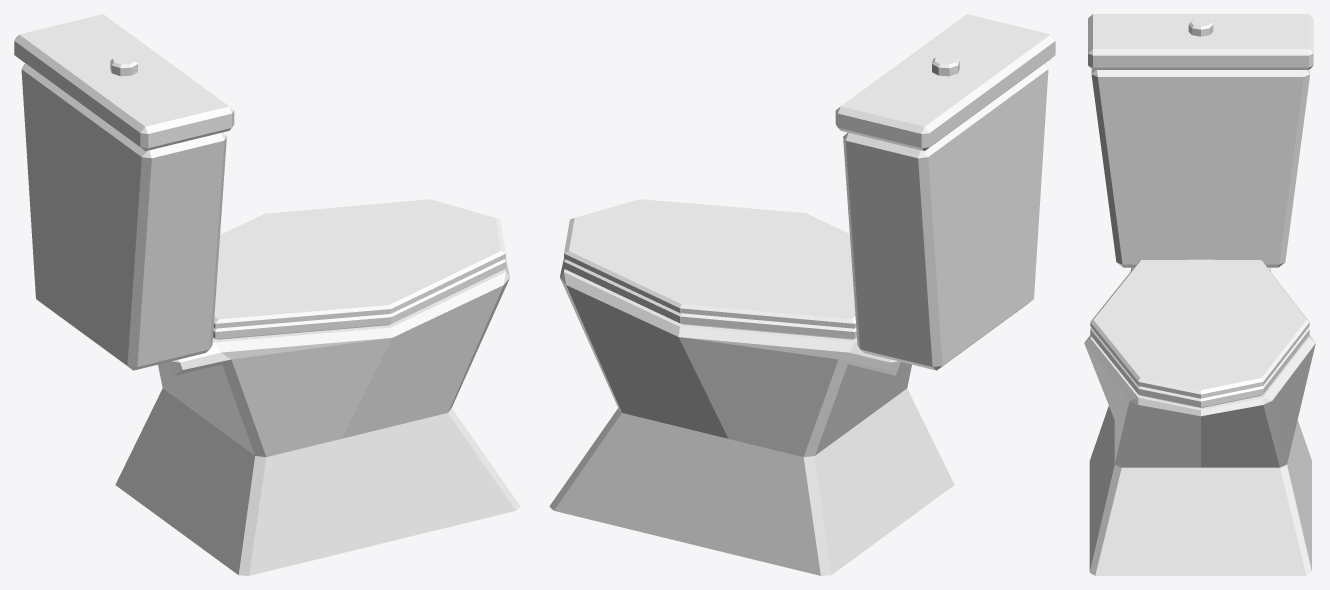
Rendered from SM_ToiletClosed.fbx.
3 renders of one model, left to right at view 1: azimuth 30°, elevation 25°; view 2: azimuth 150°, elevation 25°; view 3: azimuth 270°, elevation 25°, orthographic. The views are drawn at different scales.
Visible parts, largest first — view 1: Cube.034; view 2: Cube.034; view 3: Cube.034.
Part boxes in pixels (box(x1,y1,x2,y2)): Cube.034: box(14, 14, 520, 575); Cube.034: box(549, 14, 1055, 575); Cube.034: box(1084, 14, 1315, 575).
Size of the model in its own units: 48.25 by 87.55 by 98.27.
